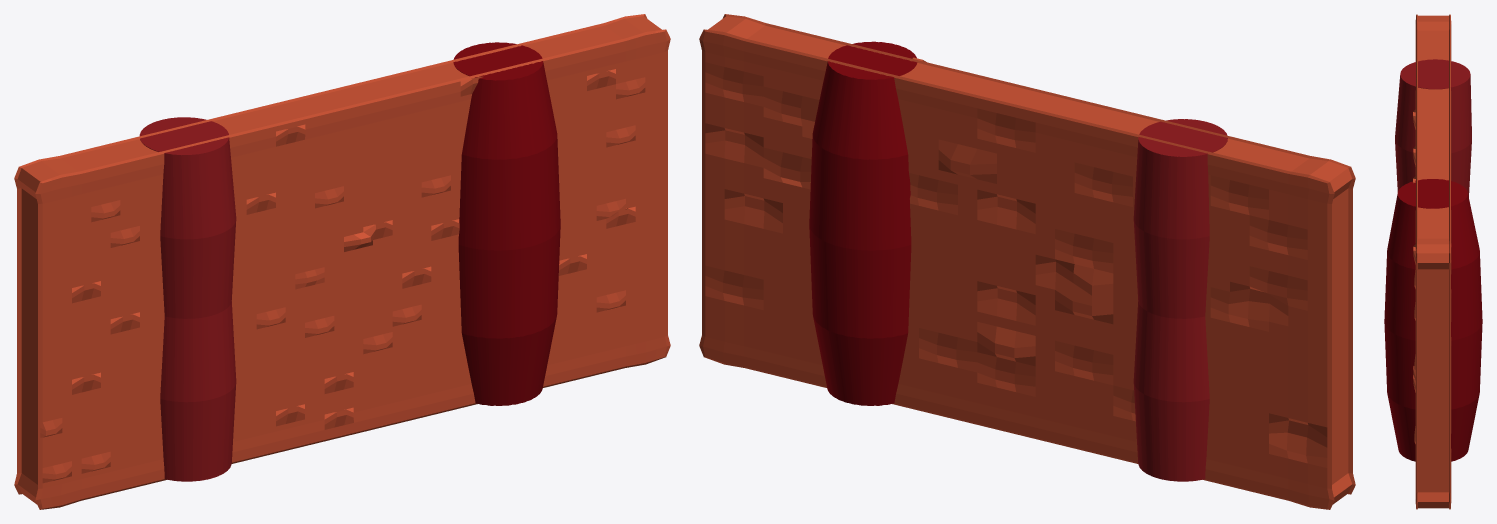
Rendered from WALL.fbx.
The picture shows the model from 3 angles, left to right: view 1: azimuth 30°, elevation 25°; view 2: azimuth 150°, elevation 25°; view 3: azimuth 270°, elevation 25°; orthographic projection. The views are drawn at different scales.
Parts seen in each view (by area): view 1: Cube, Cylinder.001, Cylinder; view 2: Cube, Cylinder.001, Cylinder; view 3: Cube, Cylinder.001, Cylinder.
Part boxes in pixels (x1,y1,x2,y2): Cube: (14, 14, 670, 509); Cylinder.001: (453, 42, 560, 405); Cylinder: (139, 117, 236, 481); Cube: (699, 14, 1355, 509); Cylinder.001: (809, 41, 917, 405); Cylinder: (1133, 119, 1227, 481); Cube: (1413, 14, 1451, 509); Cylinder.001: (1384, 179, 1482, 461); Cylinder: (1395, 59, 1471, 197).
Bounding box in the file's own units: 817 × 409 × 140.
